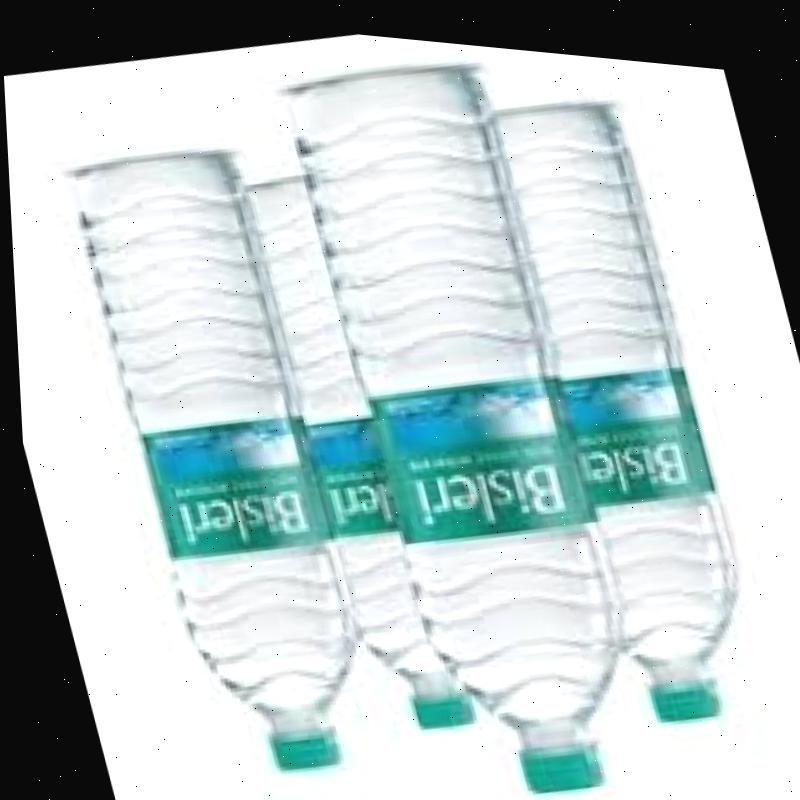botella: (275, 40, 656, 800), (55, 129, 383, 791), (478, 80, 766, 724), (238, 159, 474, 736)
